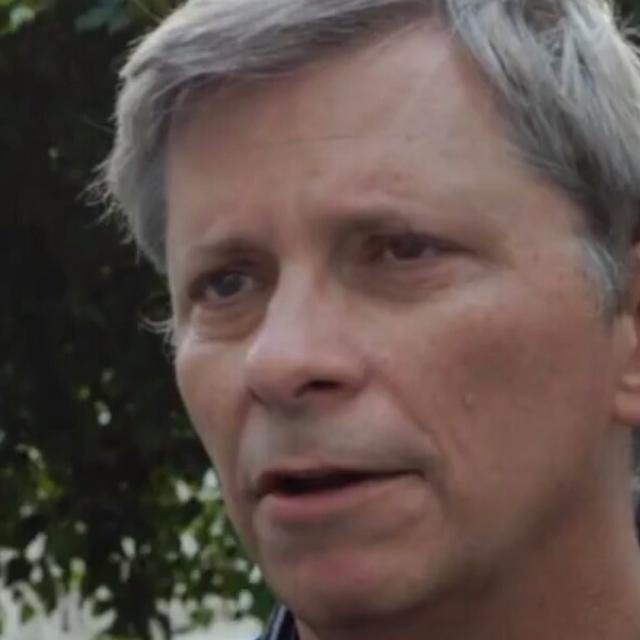Depress: (165, 19, 618, 627)
